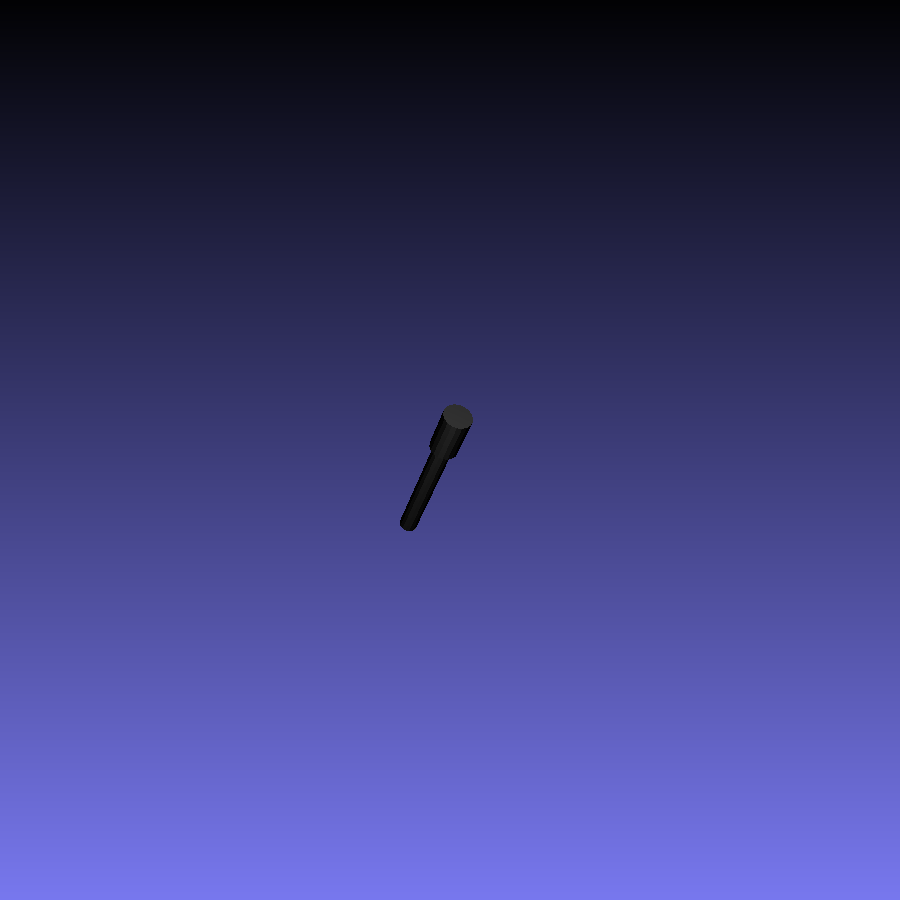cargo_g: (396, 406, 473, 533)
